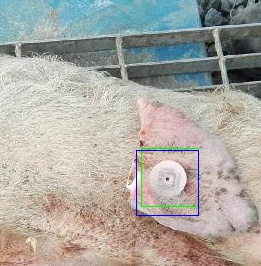text: (141, 148, 198, 206)
